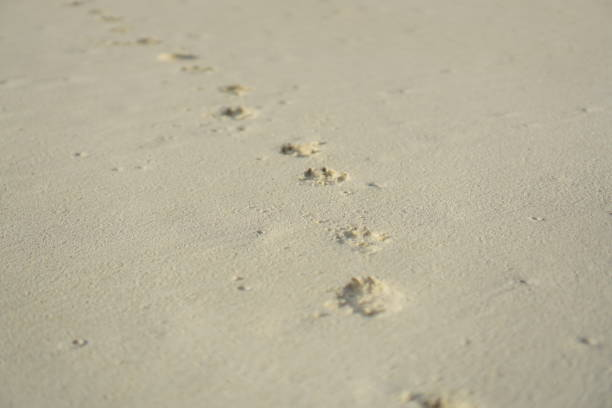animal_footprint: (336, 276, 402, 316), (335, 226, 390, 252), (401, 392, 473, 407), (301, 167, 348, 184), (280, 141, 323, 156), (219, 105, 255, 119), (219, 84, 250, 95), (157, 53, 197, 61), (180, 64, 213, 72)
